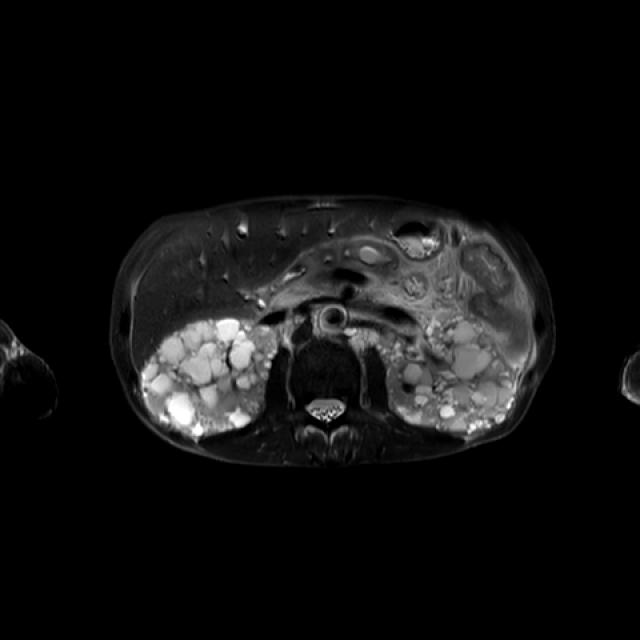sag: (143, 319, 277, 439)
sol: (385, 305, 517, 432)
